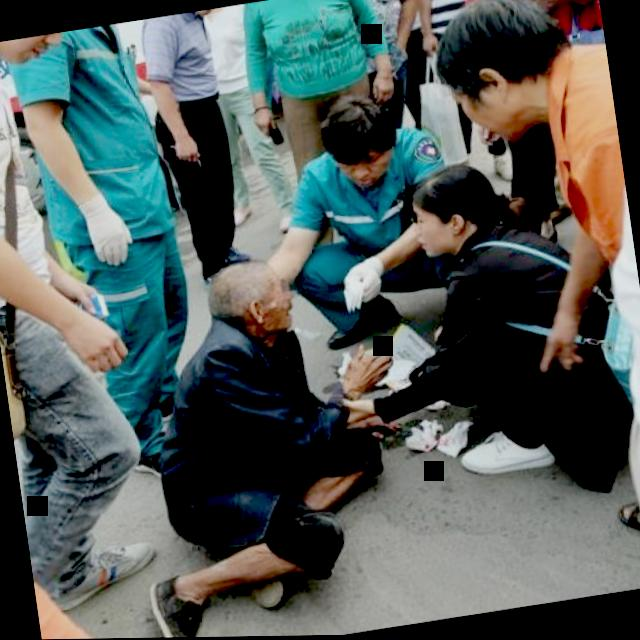Fall-Detected: (100, 224, 428, 639)
